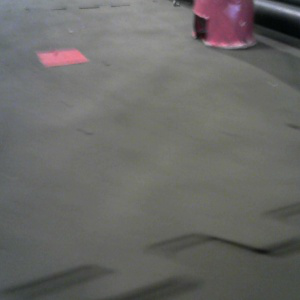Right: (191, 1, 257, 49)
